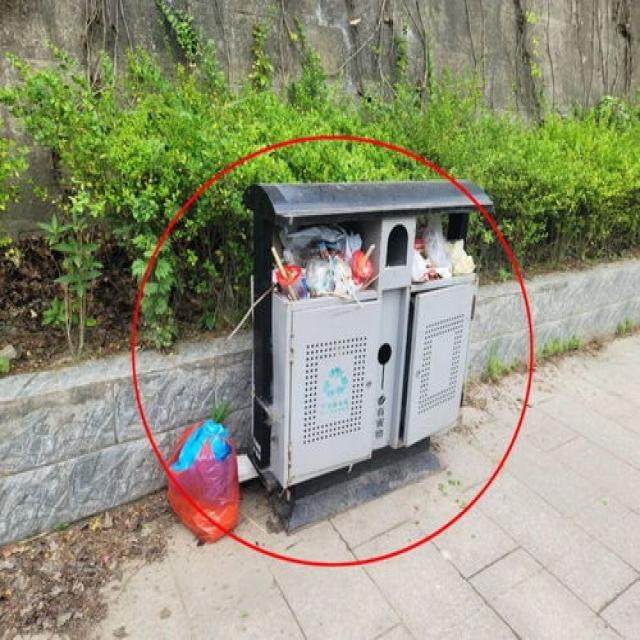garbage: (164, 416, 257, 540)
overflow: (242, 176, 493, 531)
